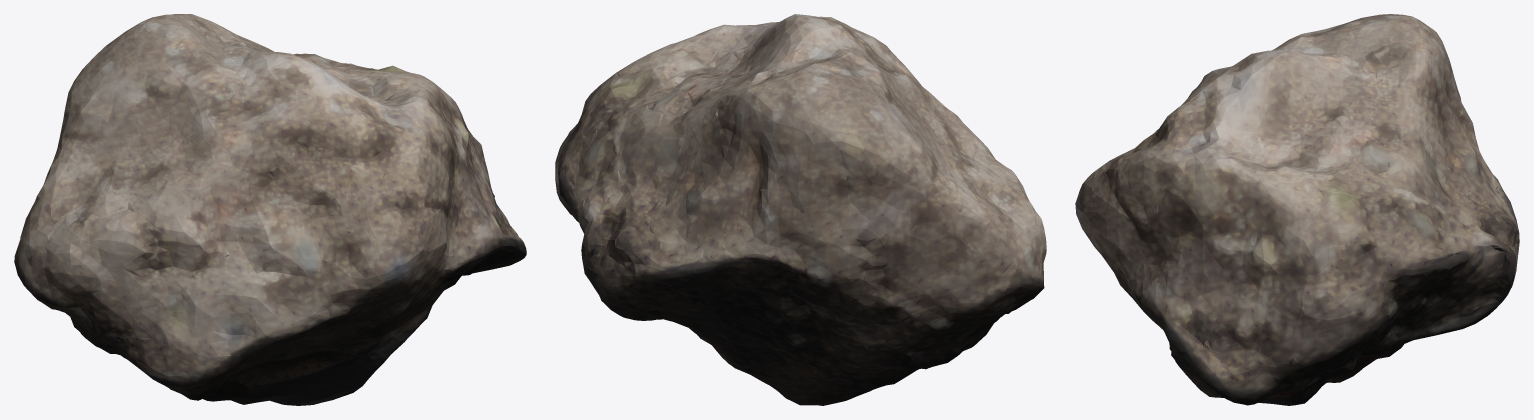
Rendered from rock3.glb.
3 views of the same model, side by side, from view 1: azimuth 30°, elevation 25°; view 2: azimuth 150°, elevation 25°; view 3: azimuth 270°, elevation 25° (orthographic). The views are drawn at different scales.
Visible parts, largest first — view 1: world; view 2: world; view 3: world.
Boxes of the visible parts, <box> form: world: <box>14,14,526,405</box>; world: <box>555,14,1046,405</box>; world: <box>1075,14,1519,405</box>.
Bounding box in the file's own units: 0.6902 × 0.4972 × 0.5725.
1 material, 1 textured.
